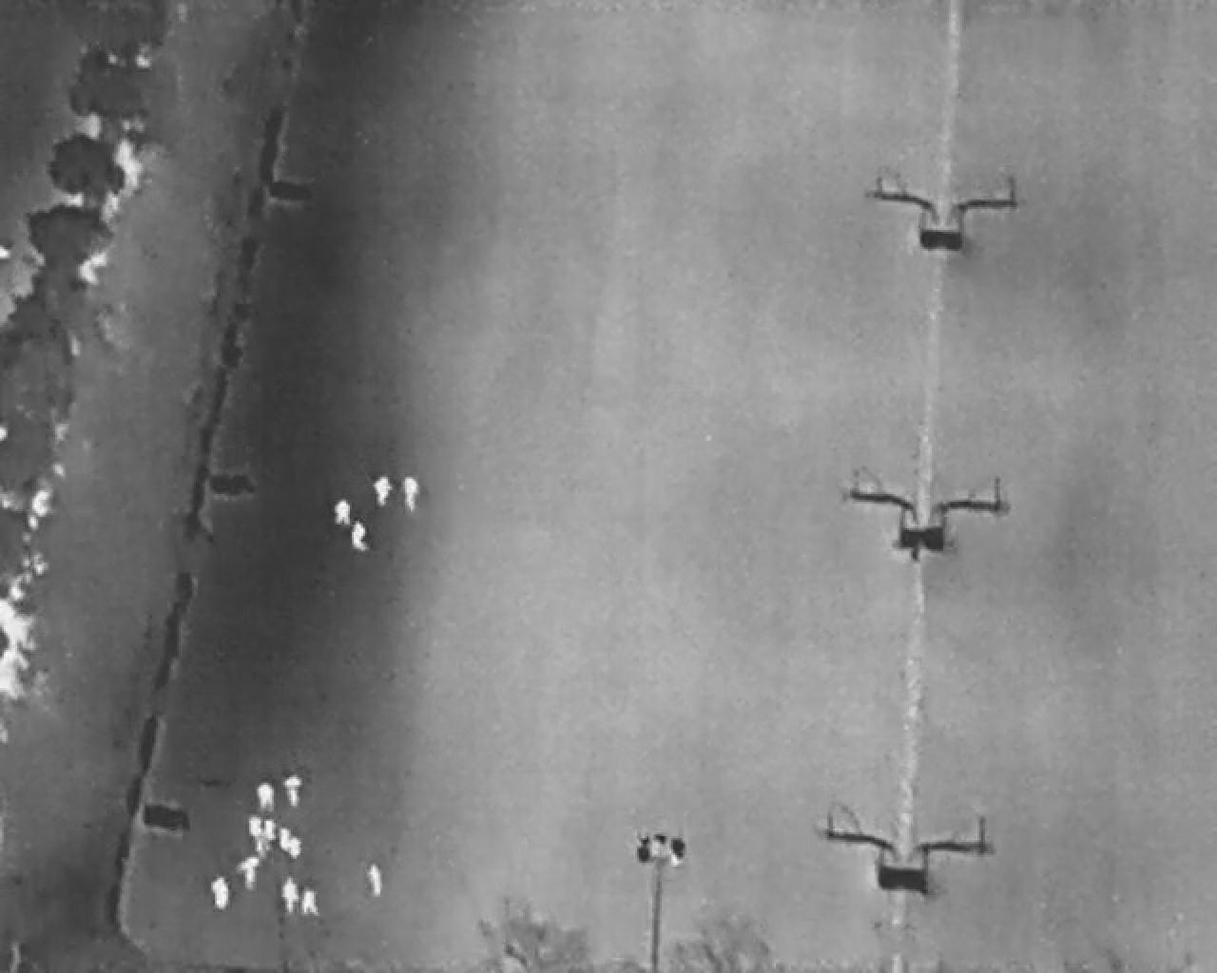person: (208, 875, 235, 911), (239, 852, 261, 892), (279, 875, 301, 915), (364, 864, 387, 900), (402, 474, 421, 514), (374, 474, 395, 510), (284, 773, 305, 809), (254, 782, 279, 812), (332, 497, 355, 529), (299, 888, 322, 919), (351, 520, 370, 552), (260, 820, 277, 845), (246, 816, 263, 835), (288, 839, 303, 860), (277, 826, 290, 850)
